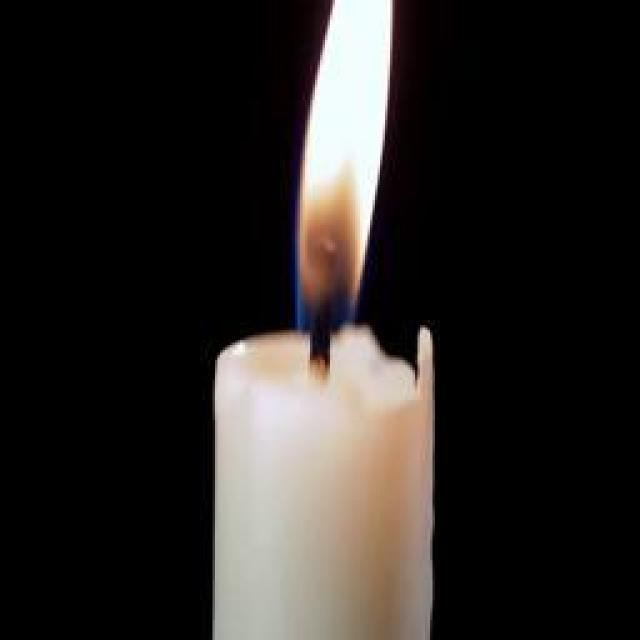Fire: (296, 0, 392, 335)
